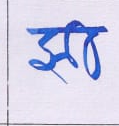i_matra: (69, 21, 103, 80)
